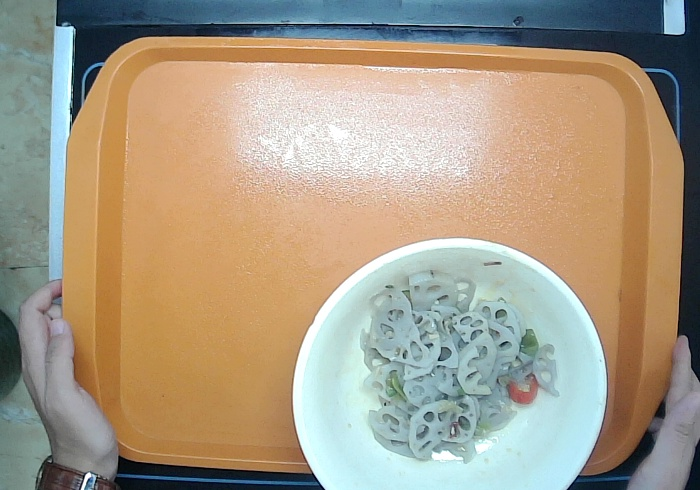ZNLD-Da_Tang_Wan: (291, 235, 607, 490)
